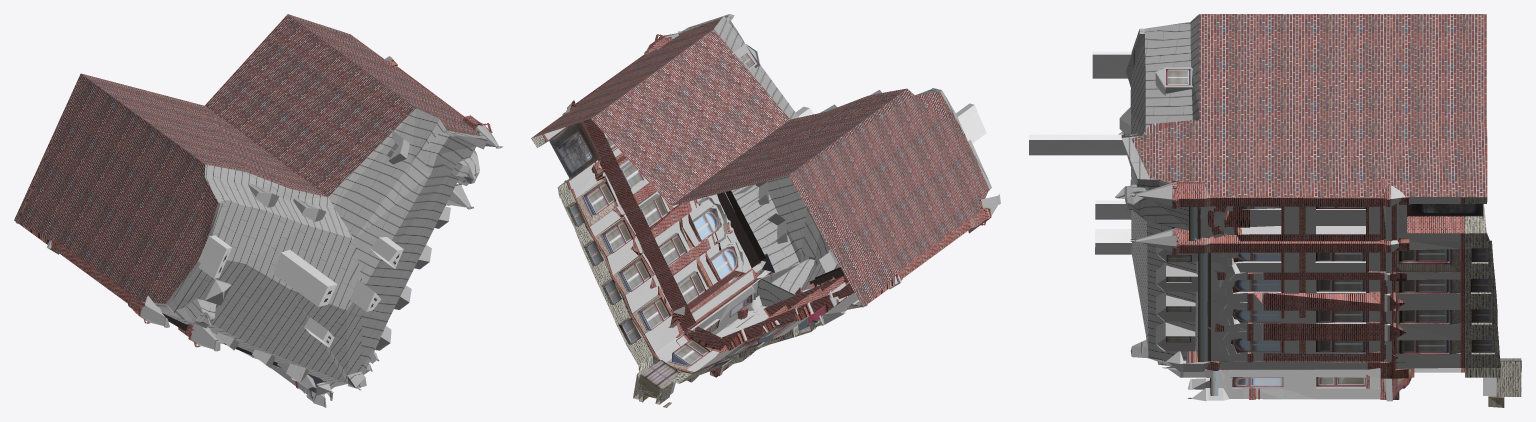
The model's file is Sulevimagi_10-origo.obj.
3 views of the same model, side by side, from view 1: azimuth 30°, elevation 25°; view 2: azimuth 150°, elevation 25°; view 3: azimuth 270°, elevation 25° (orthographic). The views are drawn at different scales.
Parts seen in each view (by area): view 1: Sulevimagi_10; view 2: Sulevimagi_10; view 3: Sulevimagi_10.
Part boxes in pixels (x1,y1,x2,y2): Sulevimagi_10: (14, 14, 502, 407); Sulevimagi_10: (531, 14, 1000, 407); Sulevimagi_10: (1029, 14, 1521, 407).
Bounding box in the file's own units: 20.69 × 15.5 × 21.63.
